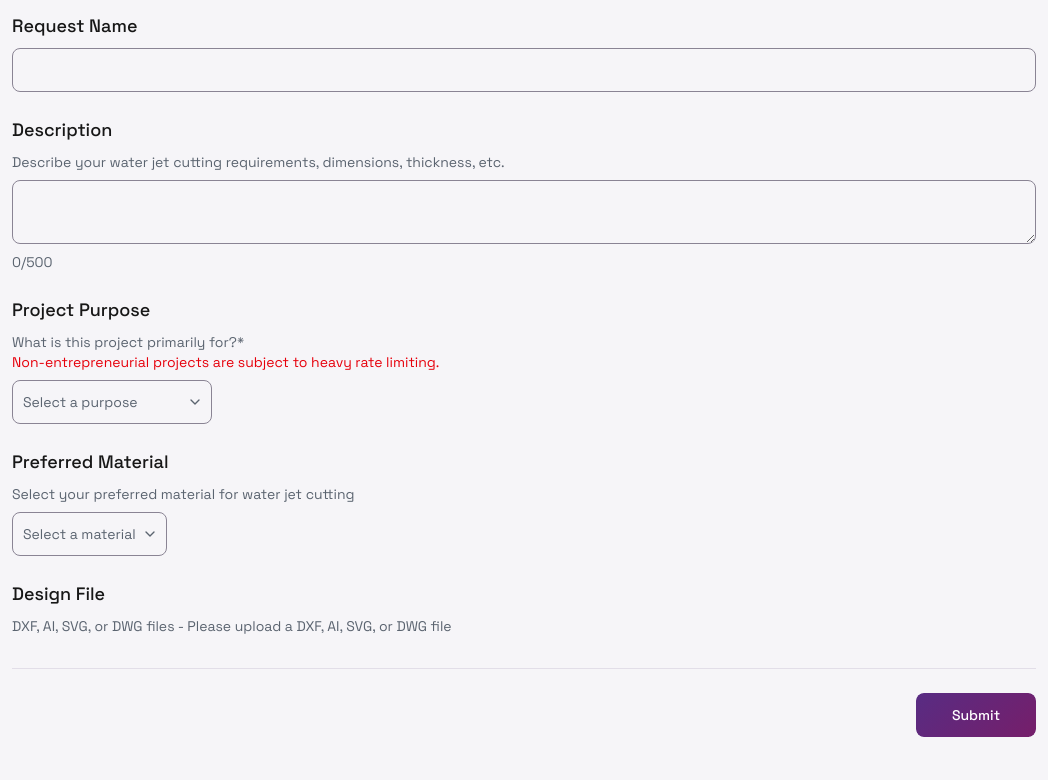
Scenario: WaterJetForm Integration › field validation › shows error for empty request name
Click the button "Submit" at (976, 715), box [916, 693, 1036, 737]
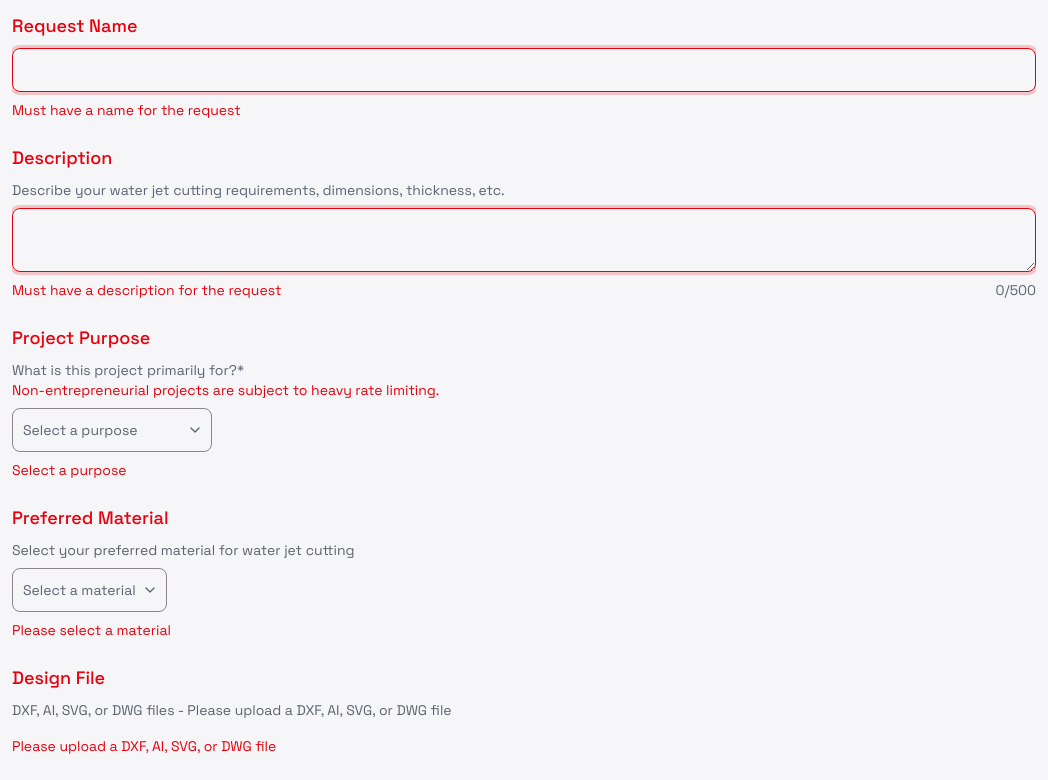
Now the text "Must have a name for the request" is shown, box [12, 101, 241, 119]
